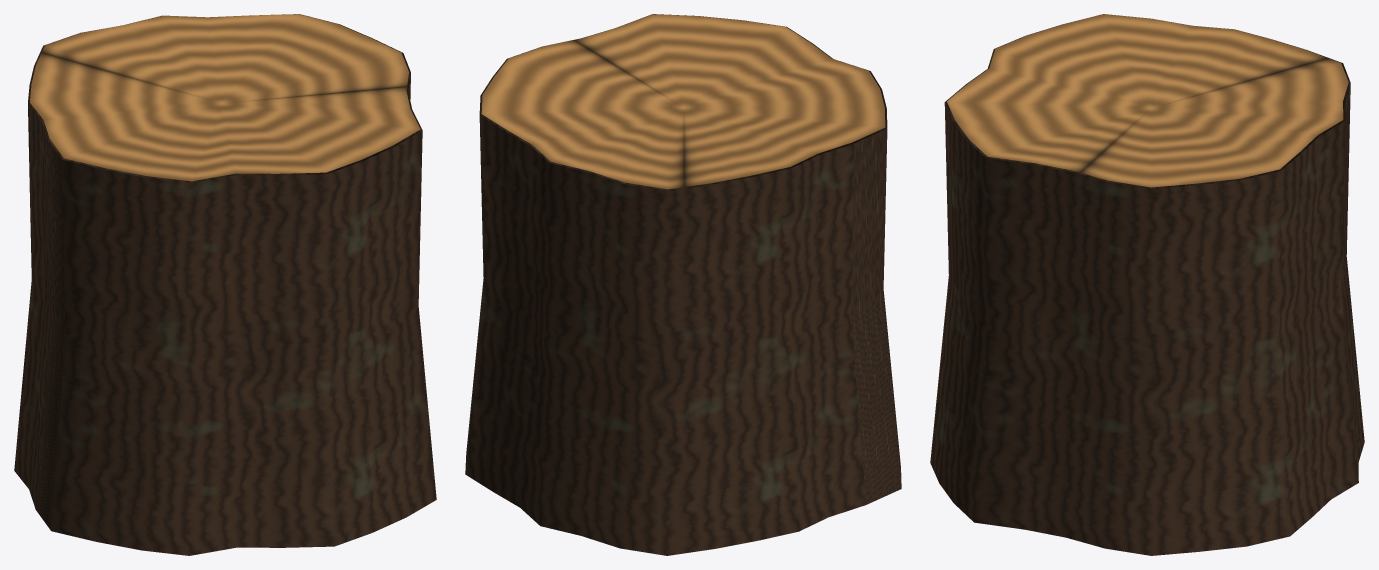
Rendered from chopping_block.glb.
The picture shows the model from 3 angles, left to right: view 1: azimuth 30°, elevation 25°; view 2: azimuth 150°, elevation 25°; view 3: azimuth 270°, elevation 25°; orthographic projection. The views are drawn at different scales.
Parts seen in each view (by area): view 1: ChoppingStumpBark, ChoppingStumpTop; view 2: ChoppingStumpBark, ChoppingStumpTop; view 3: ChoppingStumpBark, ChoppingStumpTop.
Boxes of the visible parts, x1,y1,x2,y2 form: ChoppingStumpBark: (14,14,436,555); ChoppingStumpTop: (30,14,420,181); ChoppingStumpBark: (465,14,901,555); ChoppingStumpTop: (481,14,885,189); ChoppingStumpBark: (930,14,1364,555); ChoppingStumpTop: (947,14,1348,187).
Bounding box in the file's own units: 0.5348 × 0.481 × 0.5239.
Materials: 2 (2 with a texture image).
